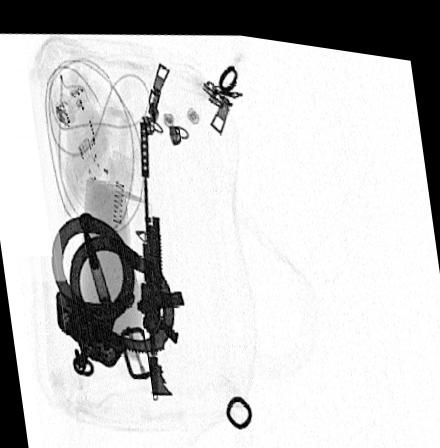Bullet: (82, 219, 112, 299)
Gun: (135, 112, 184, 391)
HandCuffs: (52, 208, 177, 374)
